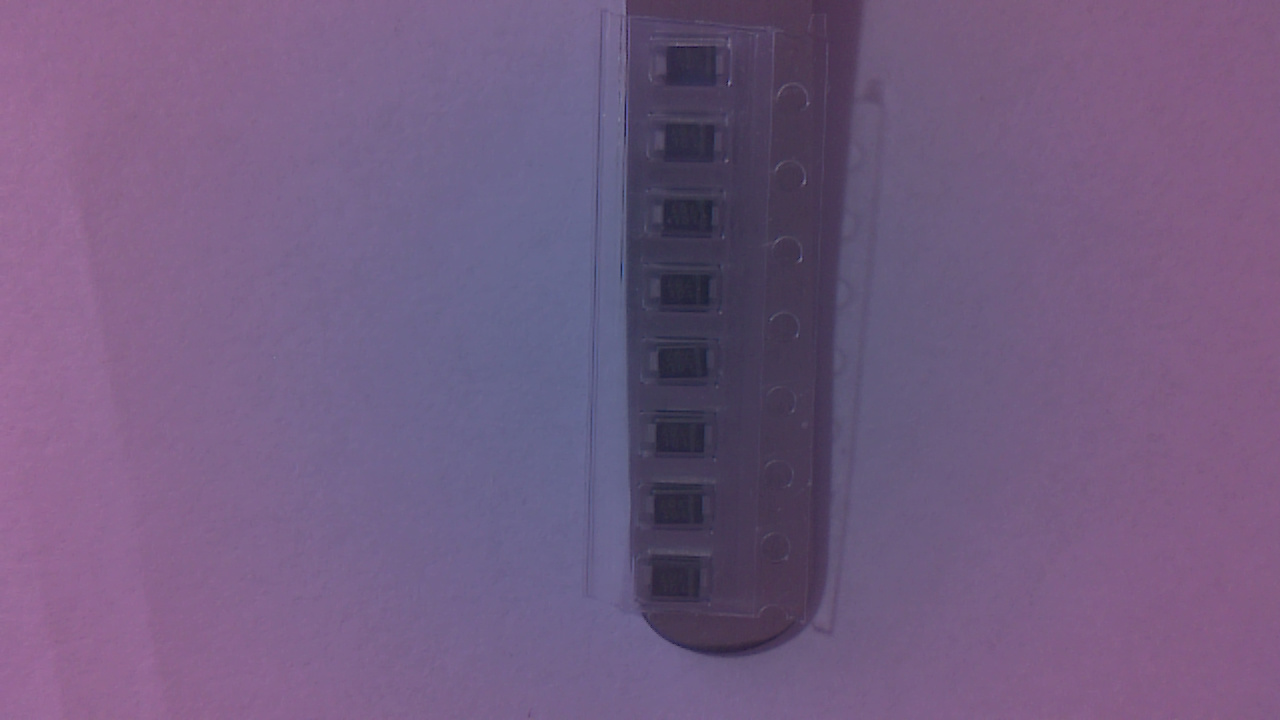Diode: (655, 47, 733, 94), (657, 195, 729, 241), (655, 125, 731, 168), (644, 561, 715, 604), (647, 491, 718, 533), (653, 275, 721, 316), (651, 349, 720, 387), (651, 423, 721, 460)
